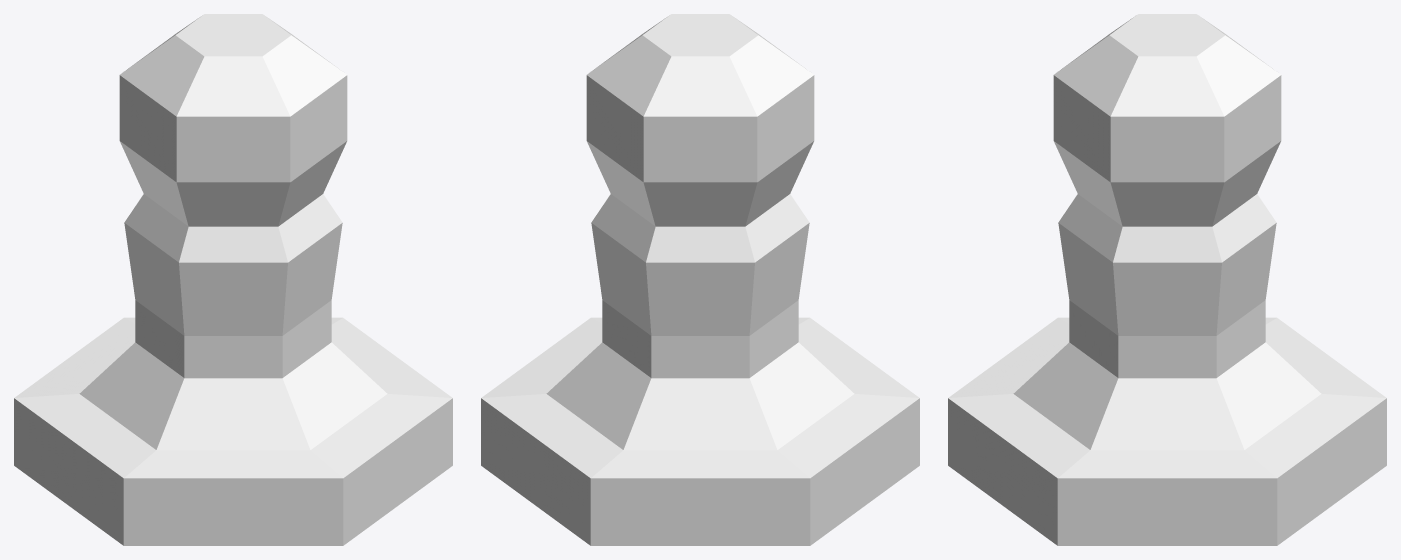
File: chesspiecepawn01.obj
3 views of the same model, side by side, from view 1: azimuth 30°, elevation 25°; view 2: azimuth 150°, elevation 25°; view 3: azimuth 270°, elevation 25° (orthographic).
Visible parts, largest first — view 1: Cylinder; view 2: Cylinder; view 3: Cylinder.
Part boxes in pixels (x1,y1,x2,y2): Cylinder: (14, 14, 452, 545); Cylinder: (481, 14, 919, 545); Cylinder: (948, 14, 1386, 545).
Bounding box in the file's own units: 0.0177 × 0.0221 × 0.0204.
